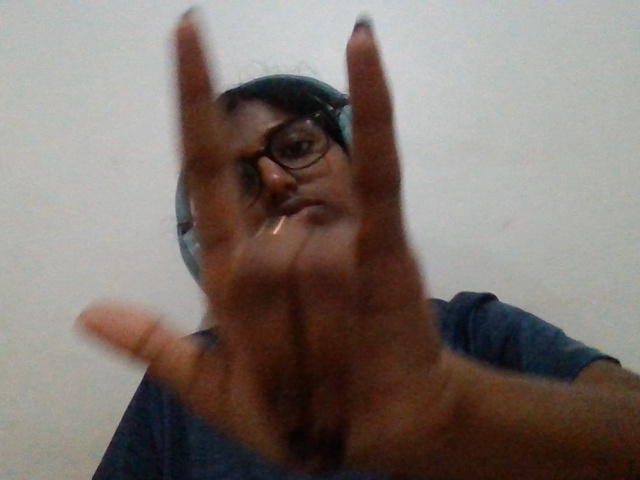I Love You: (55, 3, 524, 480)
